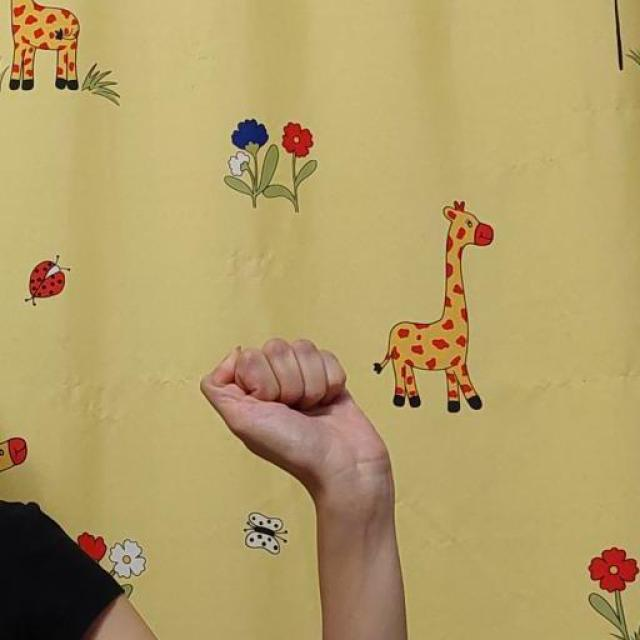hand: (197, 335, 395, 511)
